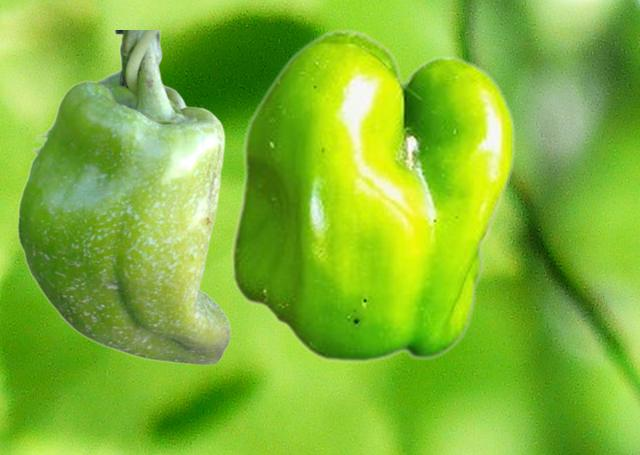bell_pepper: (230, 28, 514, 362), (16, 30, 230, 364)
